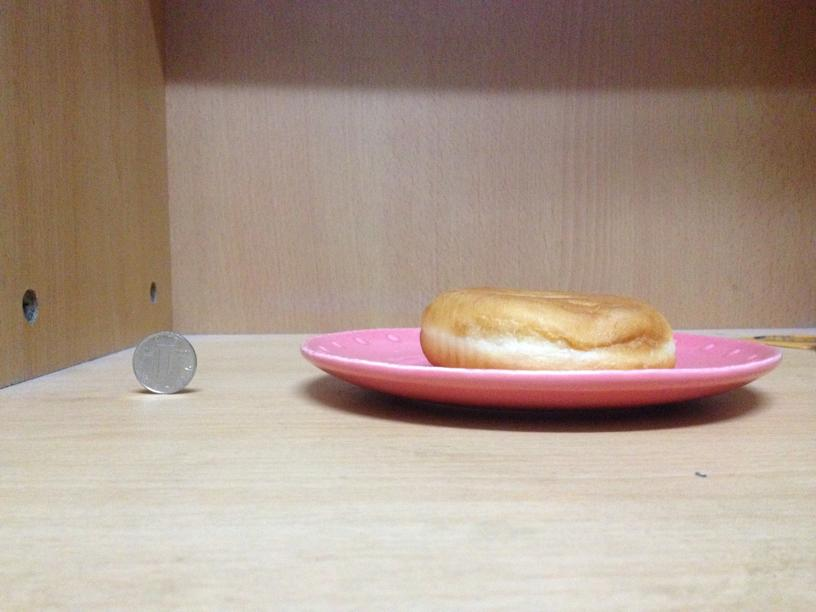coin: (129, 329, 197, 394)
doughnut: (416, 288, 675, 370)
